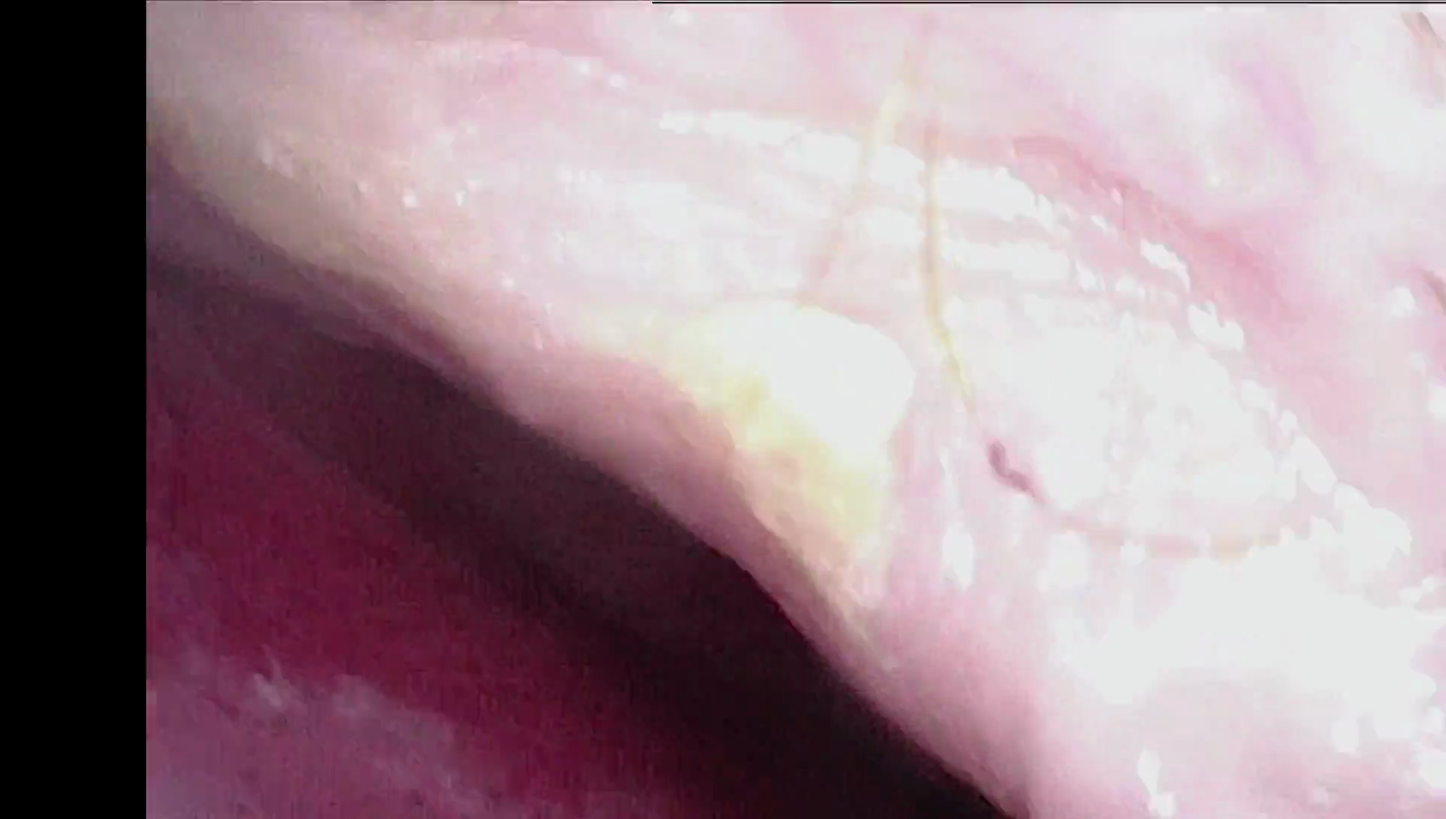close_wall: (371, 5, 1446, 634)
next: (673, 662, 1017, 819)
